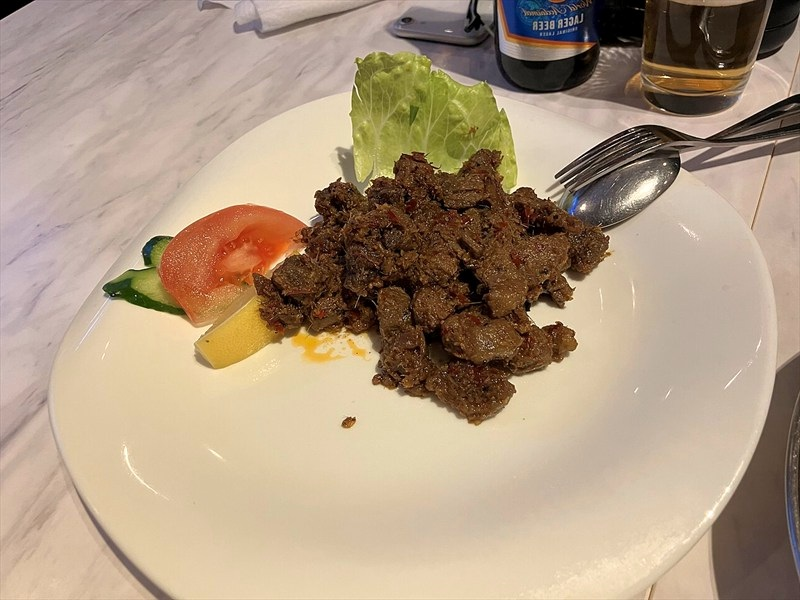Rendang: (137, 14, 763, 416)
